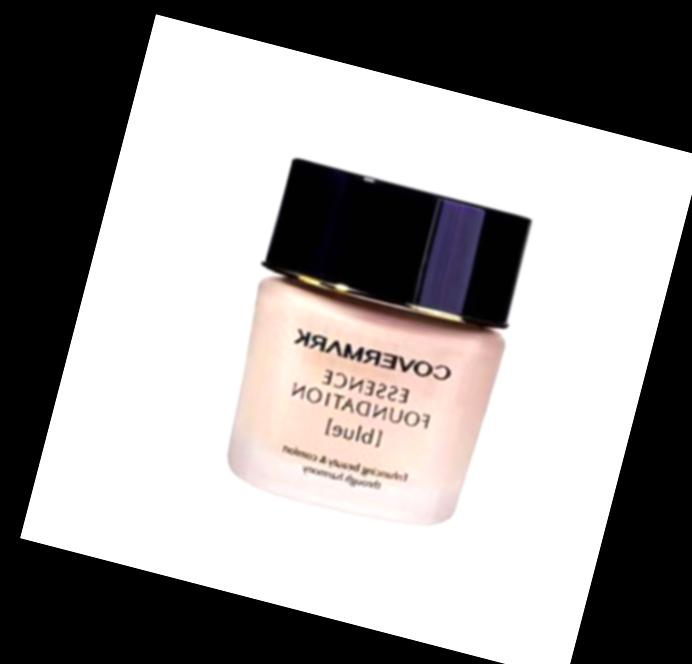cosmetic: (205, 155, 539, 538)
